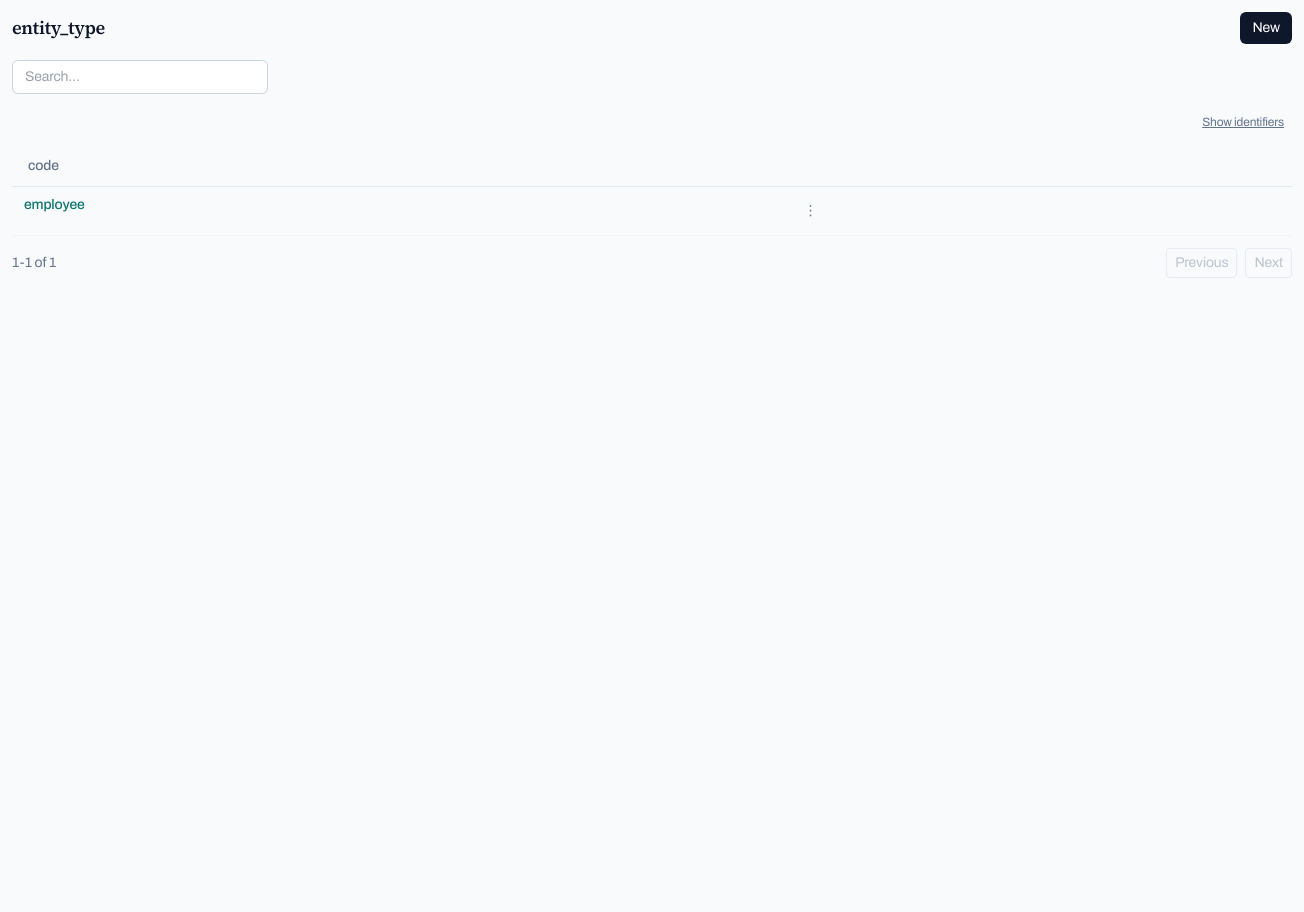
Test case: EntityList › shows a toast naming the deleted record (D-1/D-6)
The width and height of the screenshot is (1304, 912).
The card layout (G-4) renders an equivalent trigger -- scope to the table.
Click the button with test id "row-actions".
click(810, 211)  # box [794,195,826,227]
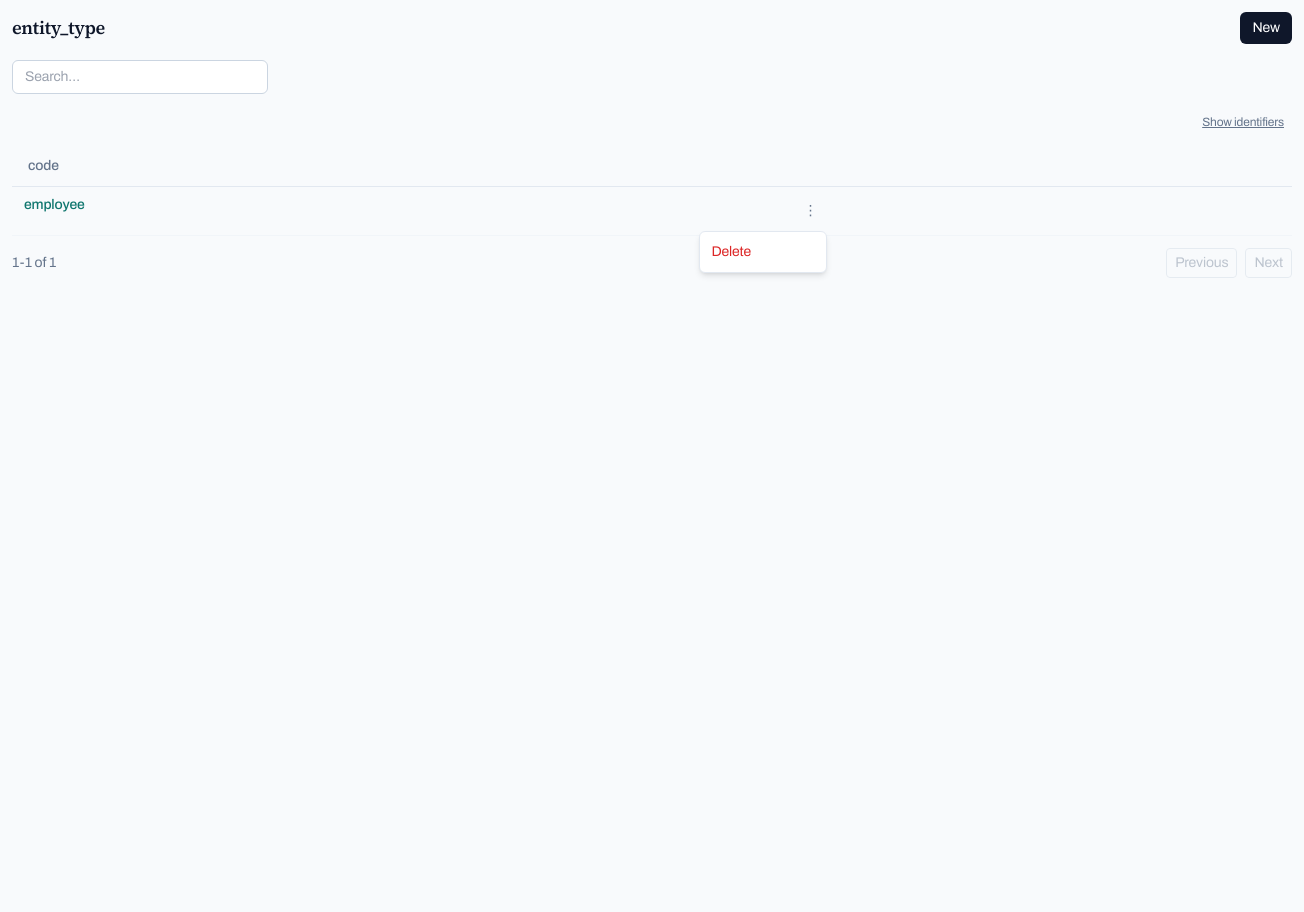
Click the menu item "Delete".
click(762, 252)  # box [700,236,826,268]
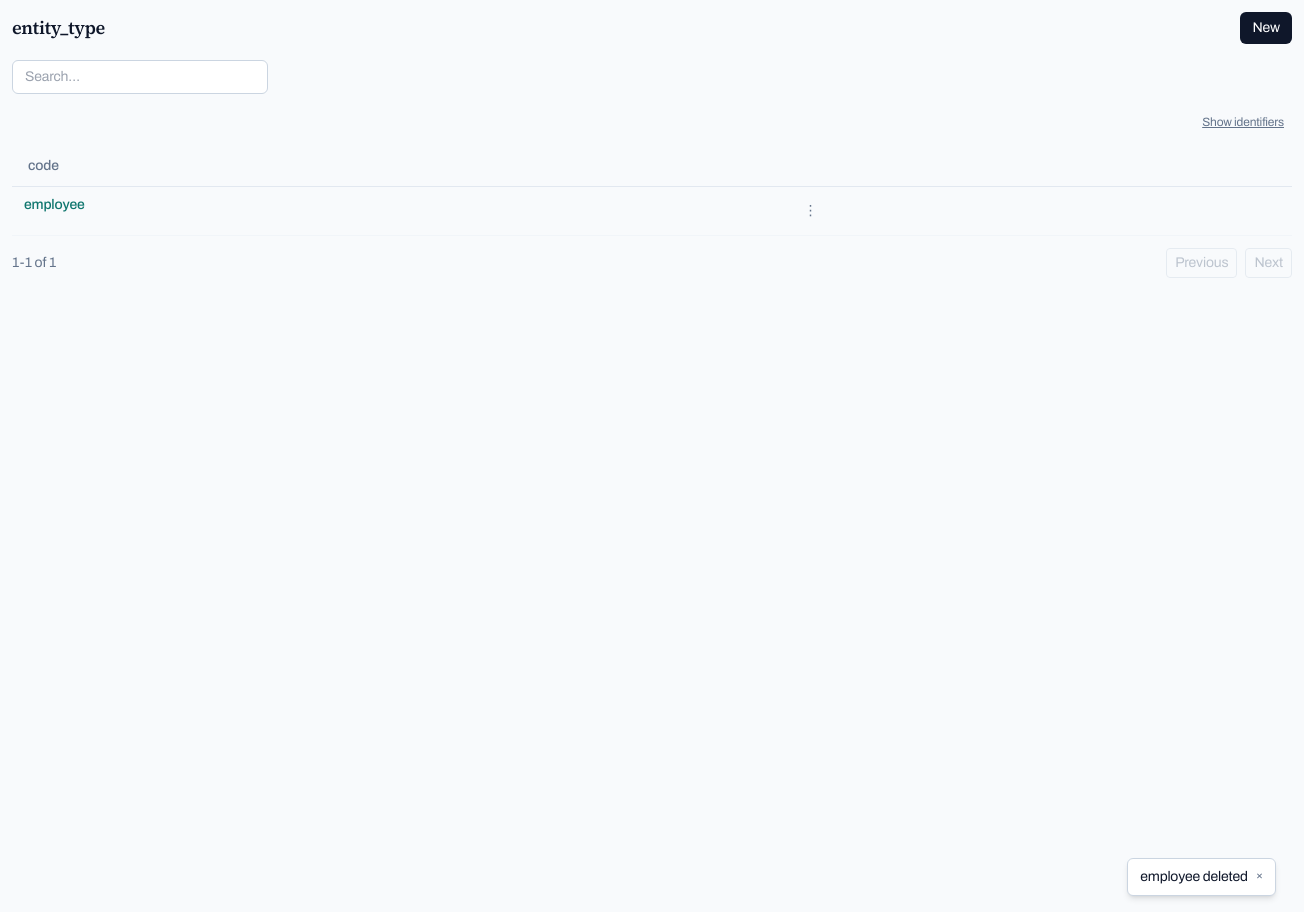
expect the text "employee deleted" is shown: met, box [1140,867,1248,887]
